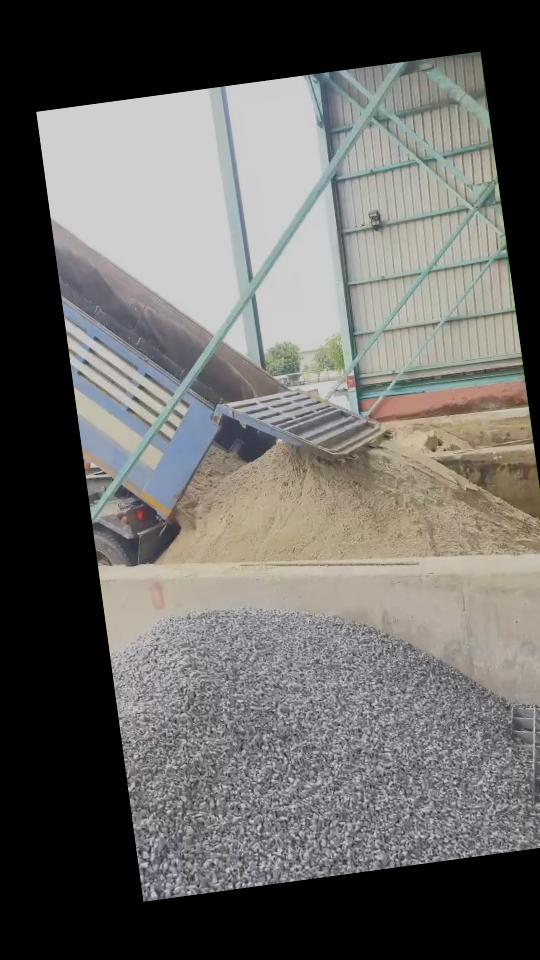gravel: (110, 609, 540, 899)
sand: (162, 441, 540, 562), (175, 447, 244, 528), (394, 426, 469, 453)
